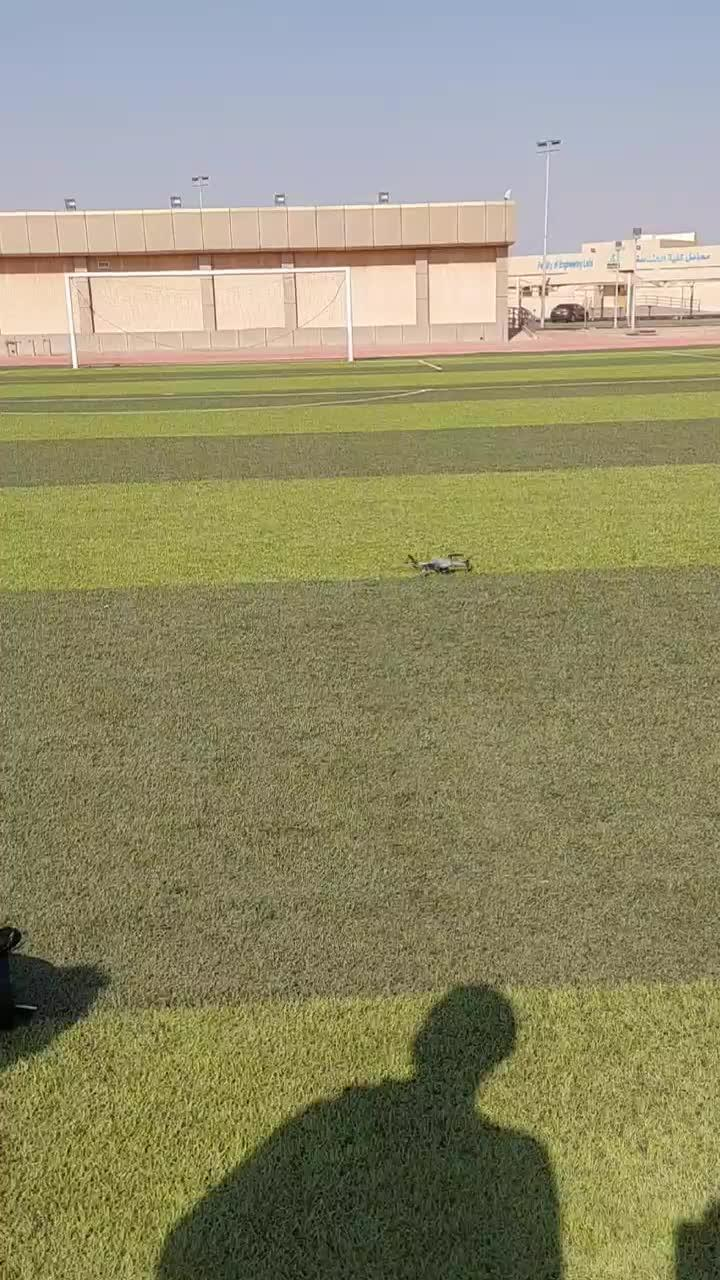drone: (394, 537, 478, 583)
